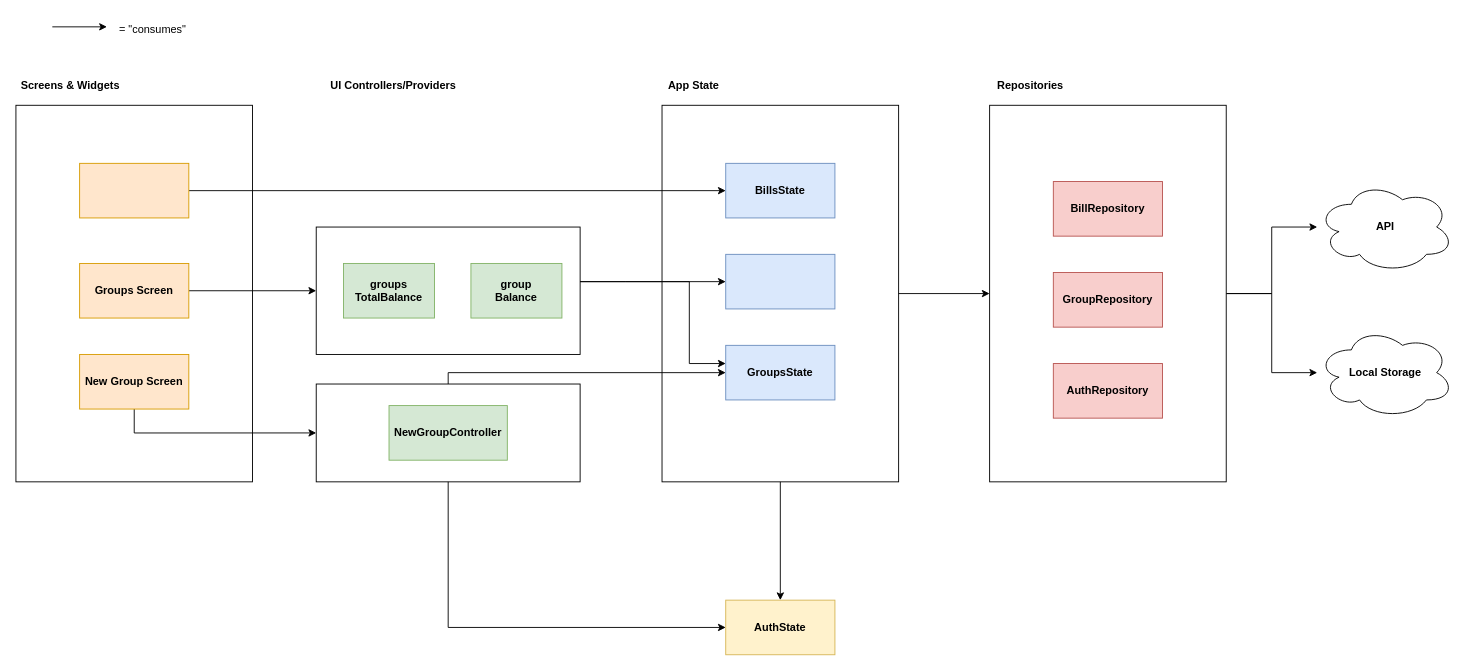
The diagram is 1470 pixels wide and 671 high, and some of its shapes have lost their labels. The centre of each missing label's shape, as x and y in pixels:
Bills Screen: the point at 134,190
GroupState: the point at 780,281
